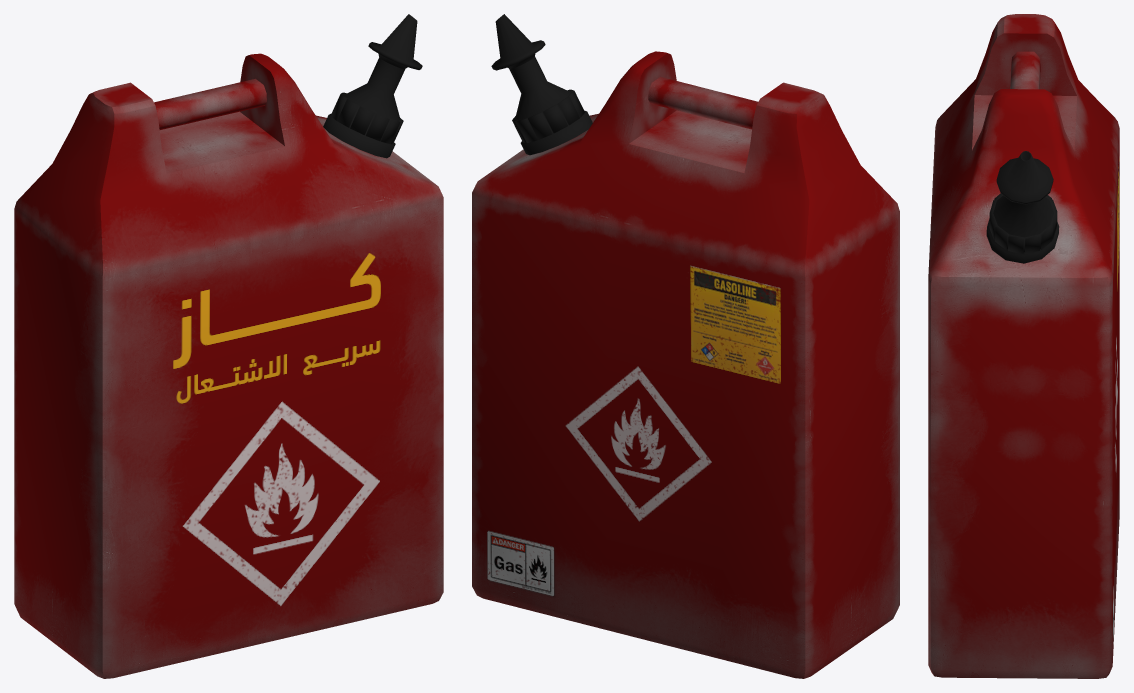
Rendered from fuel_tank.glb.
3 views of the same model, side by side, from view 1: azimuth 30°, elevation 25°; view 2: azimuth 150°, elevation 25°; view 3: azimuth 270°, elevation 25° (orthographic). The views are drawn at different scales.
Visible parts, largest first — view 1: Object005_Material #37_0; view 2: Object005_Material #37_0; view 3: Object005_Material #37_0.
Boxes of the visible parts, x1=… form: Object005_Material #37_0: x1=14, y1=14, x2=443, y2=678; Object005_Material #37_0: x1=472, y1=14, x2=899, y2=678; Object005_Material #37_0: x1=928, y1=14, x2=1119, y2=678.
Size of the model in its own units: 42.15 by 61.21 by 19.79.
Materials: 1 (1 with a texture image).
